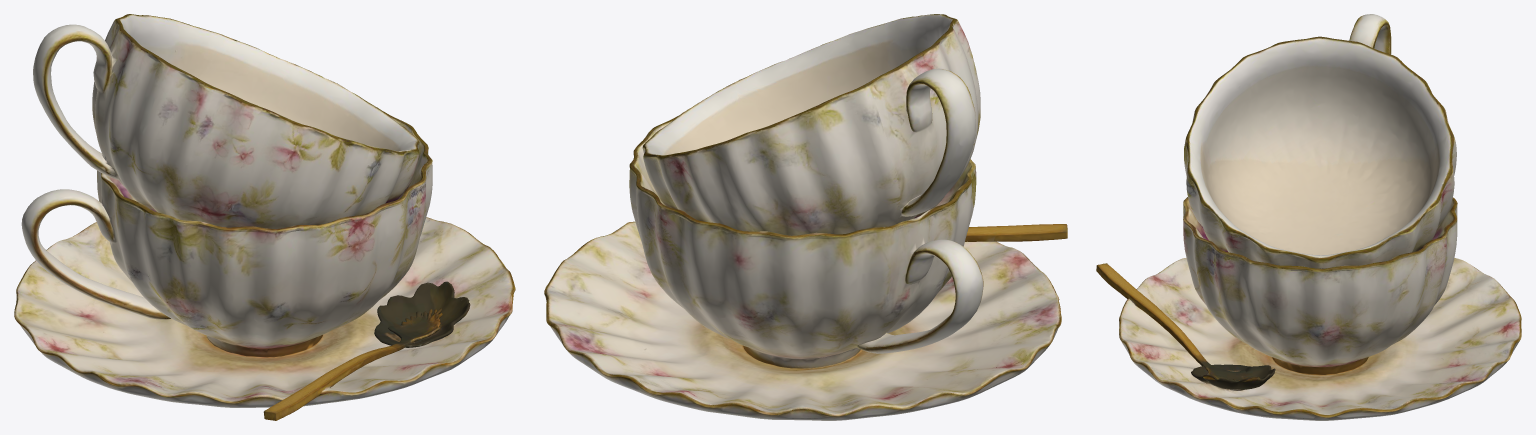
The model's file is teacup-1.glb.
3 views of the same model, side by side, from view 1: azimuth 30°, elevation 25°; view 2: azimuth 150°, elevation 25°; view 3: azimuth 270°, elevation 25° (orthographic). The views are drawn at different scales.
Visible parts, largest first — view 1: tripo_node_74a1f65f-bf11-4c93-85ec-a8e8bafcb952; view 2: tripo_node_74a1f65f-bf11-4c93-85ec-a8e8bafcb952; view 3: tripo_node_74a1f65f-bf11-4c93-85ec-a8e8bafcb952.
Boxes of the visible parts, x1,y1,x2,y2 form: tripo_node_74a1f65f-bf11-4c93-85ec-a8e8bafcb952: [14, 14, 515, 420]; tripo_node_74a1f65f-bf11-4c93-85ec-a8e8bafcb952: [544, 14, 1067, 420]; tripo_node_74a1f65f-bf11-4c93-85ec-a8e8bafcb952: [1096, 14, 1521, 420].
Size of the model in its own units: 1 by 0.7256 by 0.9963.
1 material, 1 textured.
